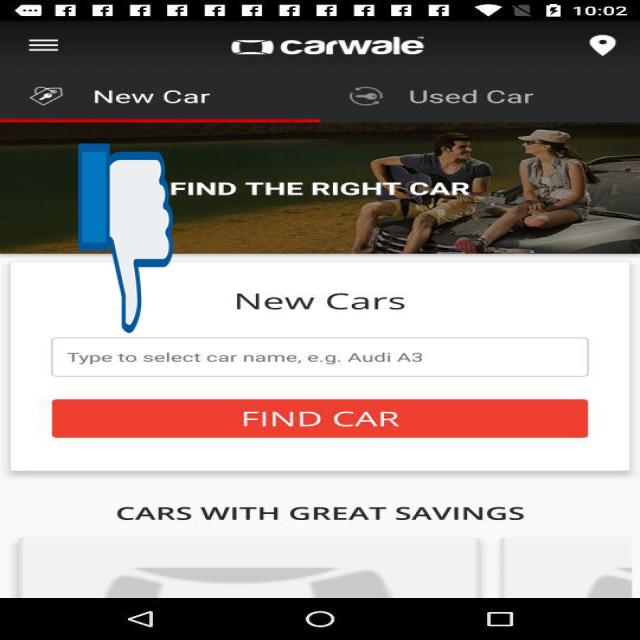obstruction: (78, 140, 173, 338)
